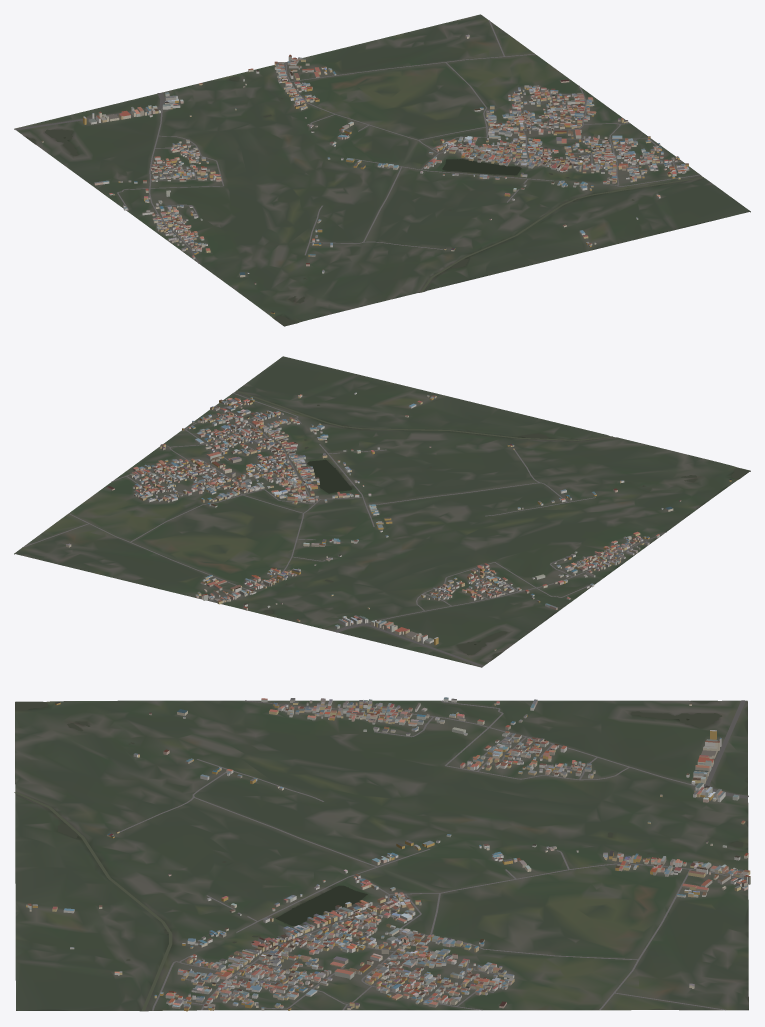
The picture shows the model from 3 angles, top to bottom: view 1: azimuth 30°, elevation 25°; view 2: azimuth 150°, elevation 25°; view 3: azimuth 270°, elevation 25°; orthographic projection. The views are drawn at different scales.
Parts seen in each view (by area): view 1: ground, buildings, roads, water; view 2: ground, buildings, roads, water; view 3: ground, buildings, roads, water.
Part boxes in pixels (bbox=[...]): ground: bbox=[14, 14, 750, 326]; buildings: bbox=[41, 34, 689, 313]; roads: bbox=[15, 20, 700, 263]; water: bbox=[25, 76, 703, 325]; ground: bbox=[14, 356, 750, 667]; buildings: bbox=[66, 392, 731, 650]; roads: bbox=[22, 393, 666, 666]; water: bbox=[236, 390, 749, 659]; ground: bbox=[15, 700, 748, 1011]; buildings: bbox=[26, 697, 750, 1011]; roads: bbox=[119, 700, 748, 1010]; water: bbox=[14, 700, 743, 1010].
Size of the model in its own units: 1410 by 22.88 by 1410.
